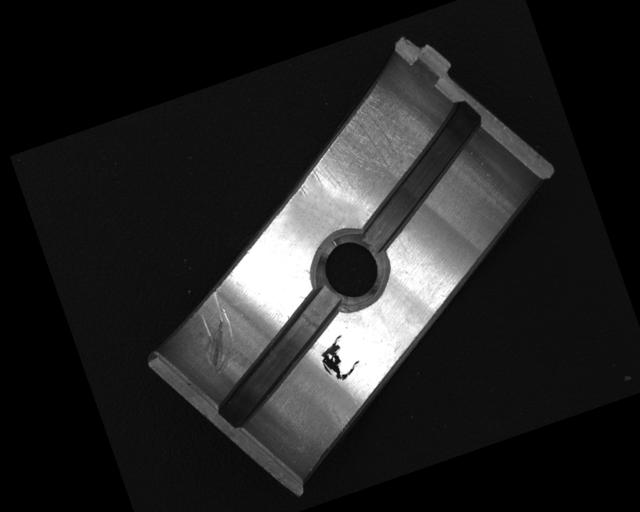blot: (311, 325, 364, 386)
gap: (331, 97, 510, 254), (191, 284, 367, 431)
hole: (300, 220, 400, 320)
nick: (181, 286, 245, 379)
scratch: (272, 71, 445, 211)
